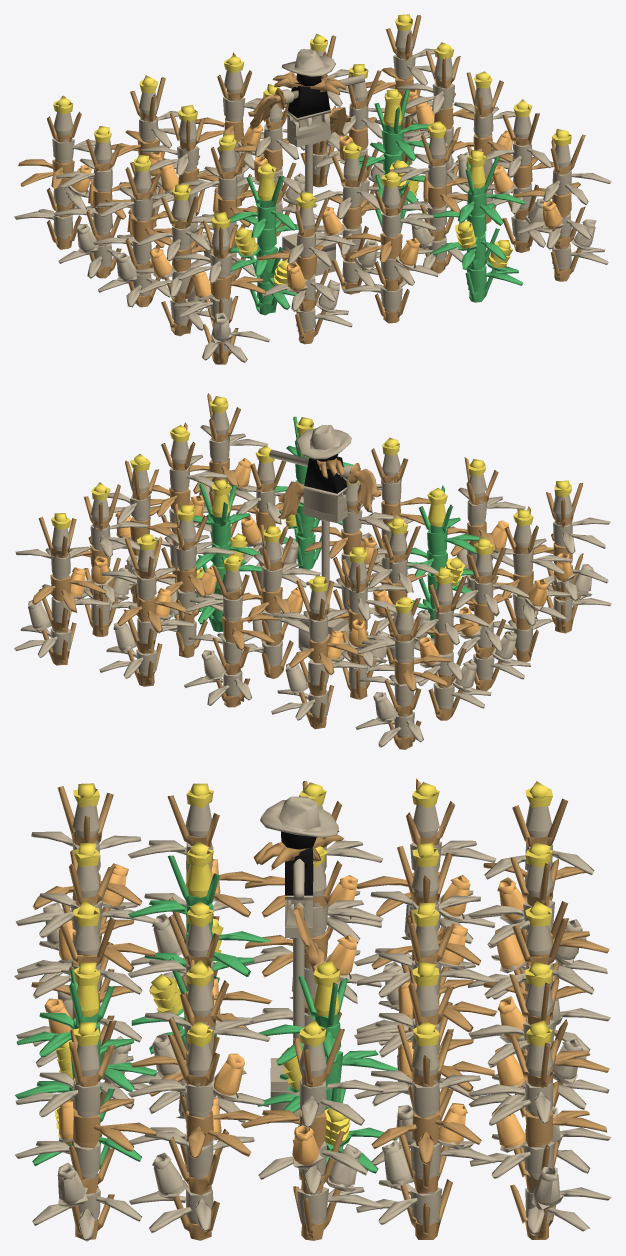
File: corn_field_crow.fbx
The picture shows the model from 3 angles, top to bottom: view 1: azimuth 30°, elevation 25°; view 2: azimuth 150°, elevation 25°; view 3: azimuth 270°, elevation 25°; orthographic projection. The views are drawn at different scales.
Parts seen in each view (by area): view 1: corn_field_crow; view 2: corn_field_crow; view 3: corn_field_crow.
Part boxes in pixels (x1,y1,x2,y2): corn_field_crow: [14, 14, 611, 364]; corn_field_crow: [14, 393, 611, 749]; corn_field_crow: [14, 778, 611, 1241].
Bounding box in the file's own units: 301 × 147 × 254.
